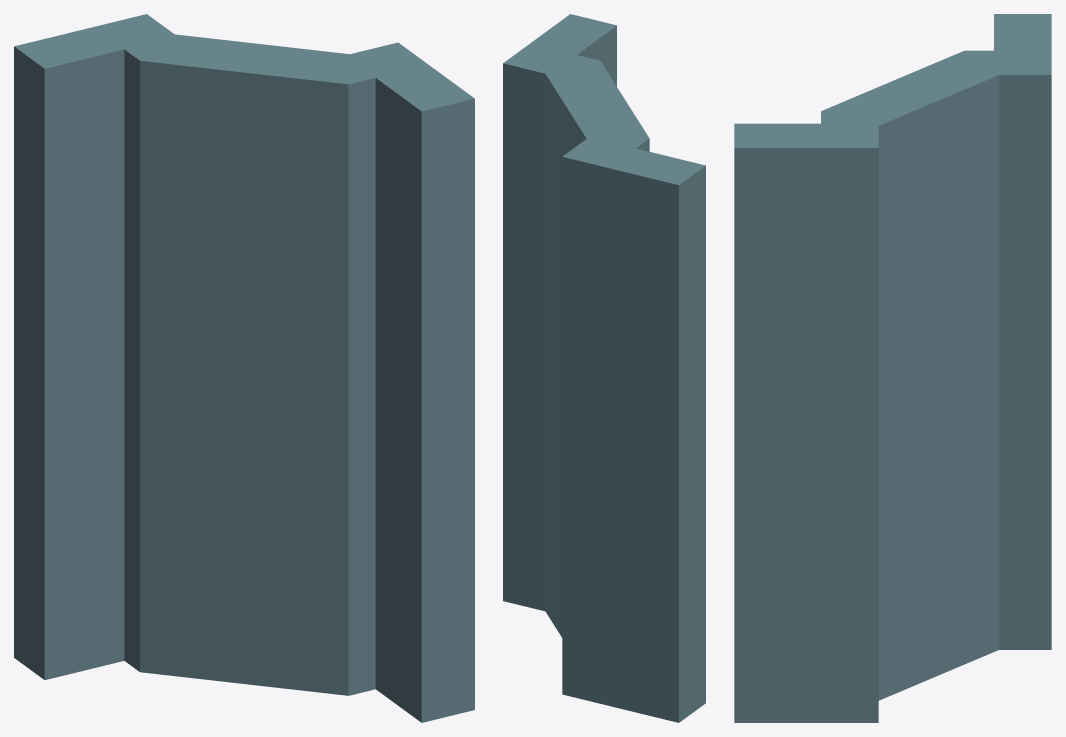
File: W1_WallCorner_Angular2A.fbx
3 views of the same model, side by side, from view 1: azimuth 30°, elevation 25°; view 2: azimuth 150°, elevation 25°; view 3: azimuth 270°, elevation 25° (orthographic). The views are drawn at different scales.
Parts seen in each view (by area): view 1: W1_WallCorner_Angular2A.001; view 2: W1_WallCorner_Angular2A.001; view 3: W1_WallCorner_Angular2A.001.
Part boxes in pixels (bbox=[...]): W1_WallCorner_Angular2A.001: bbox=[14, 14, 474, 722]; W1_WallCorner_Angular2A.001: bbox=[503, 14, 705, 722]; W1_WallCorner_Angular2A.001: bbox=[734, 14, 1051, 722].
Size of the model in its own units: 1.1 by 2.2 by 1.1.
